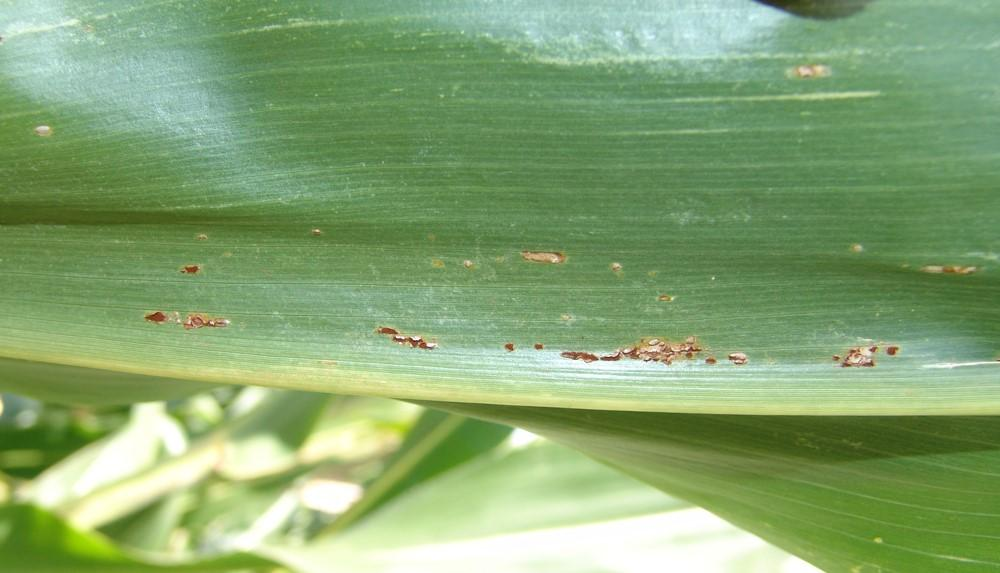Corn rust leaf: (1, 2, 999, 427)
